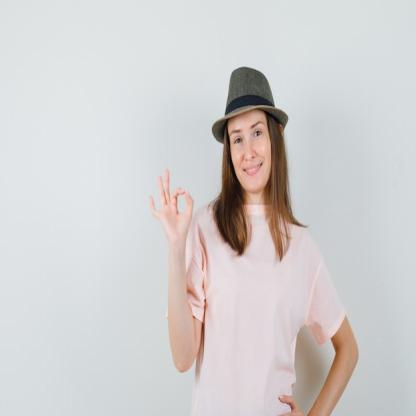ok: (148, 165, 196, 244)
